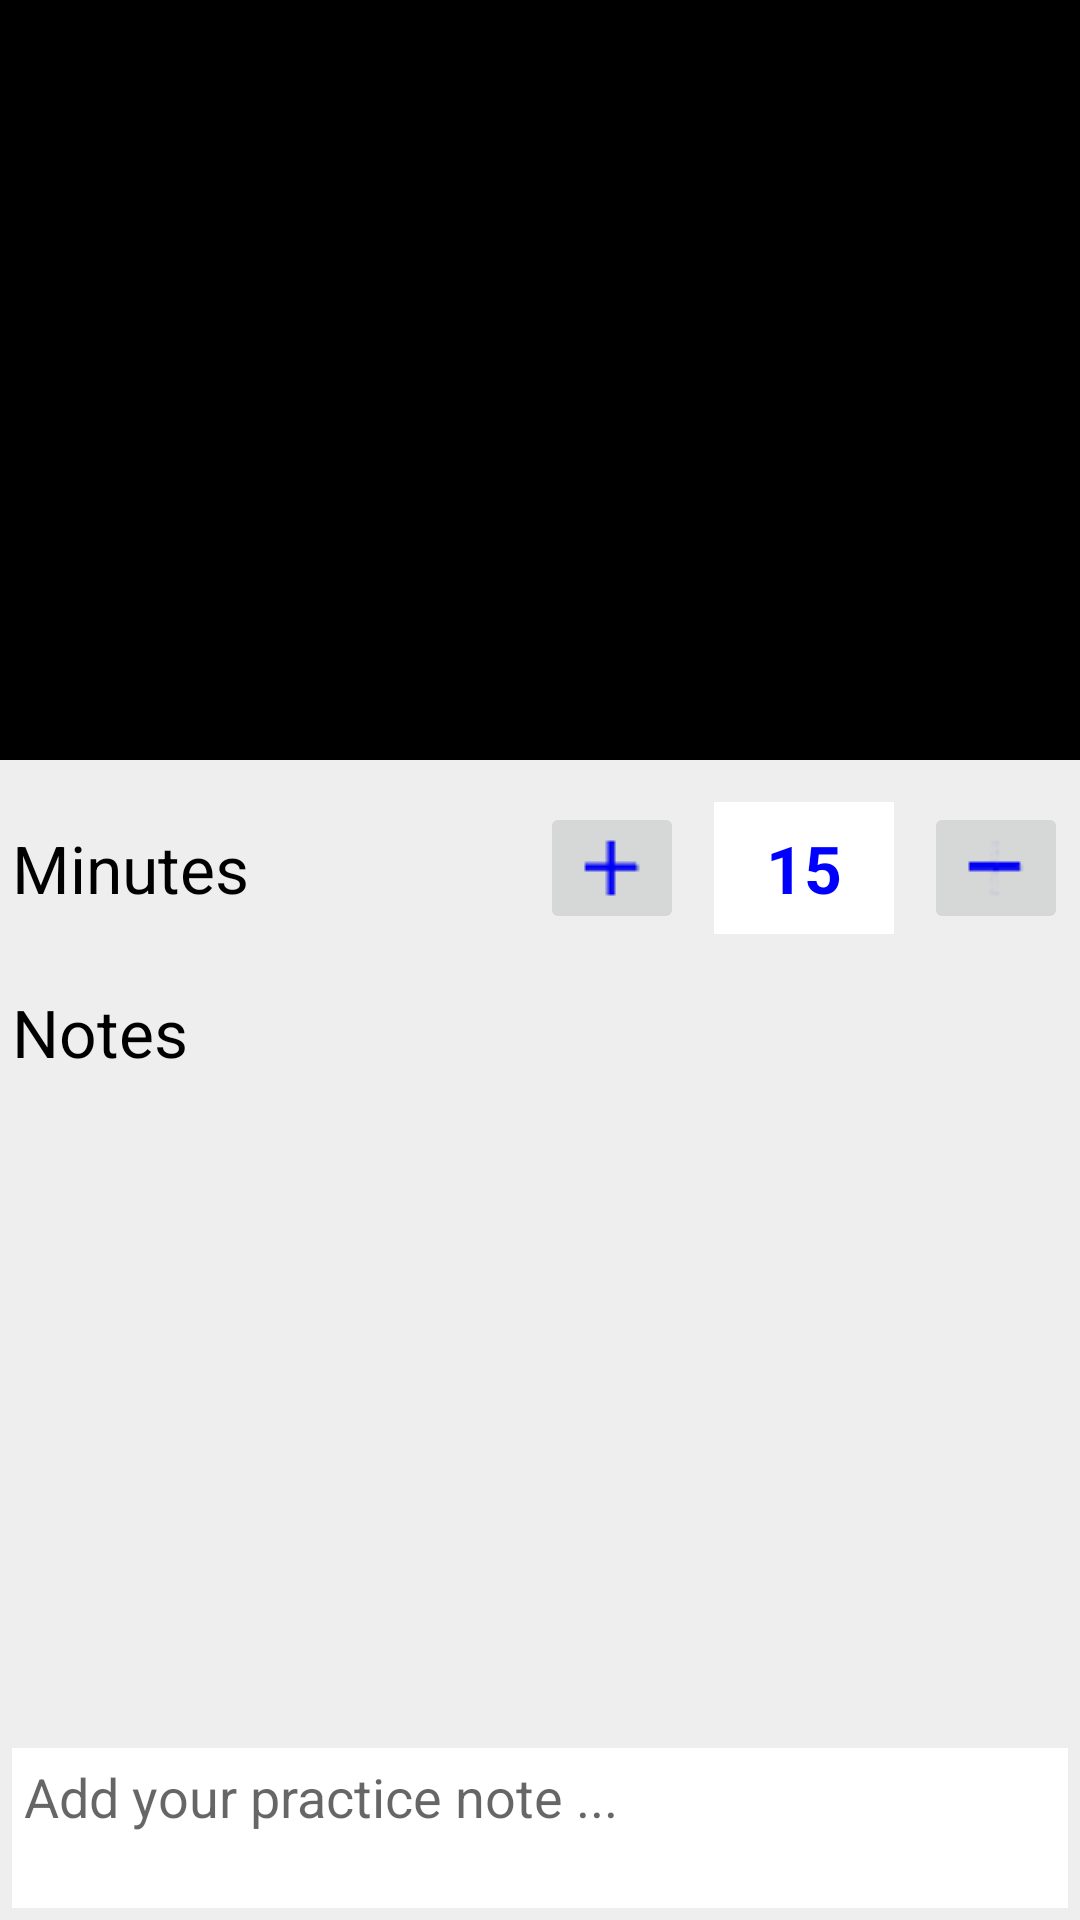

Icon bounding boxes for this 1080w x 1920h phone screenshot, format {"x1": x1, "y1": y1, "x2": x2, "y2": y2}:
add: {"x1": 552, "y1": 820, "x2": 672, "y2": 916}
minus: {"x1": 936, "y1": 820, "x2": 1056, "y2": 916}
